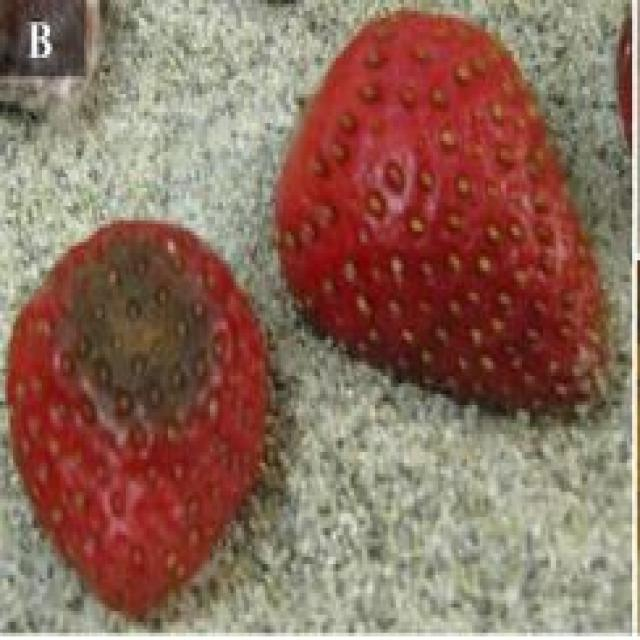Fruta sana: (278, 16, 614, 412)
Mancha negra Antracnosis: (10, 217, 269, 597)
